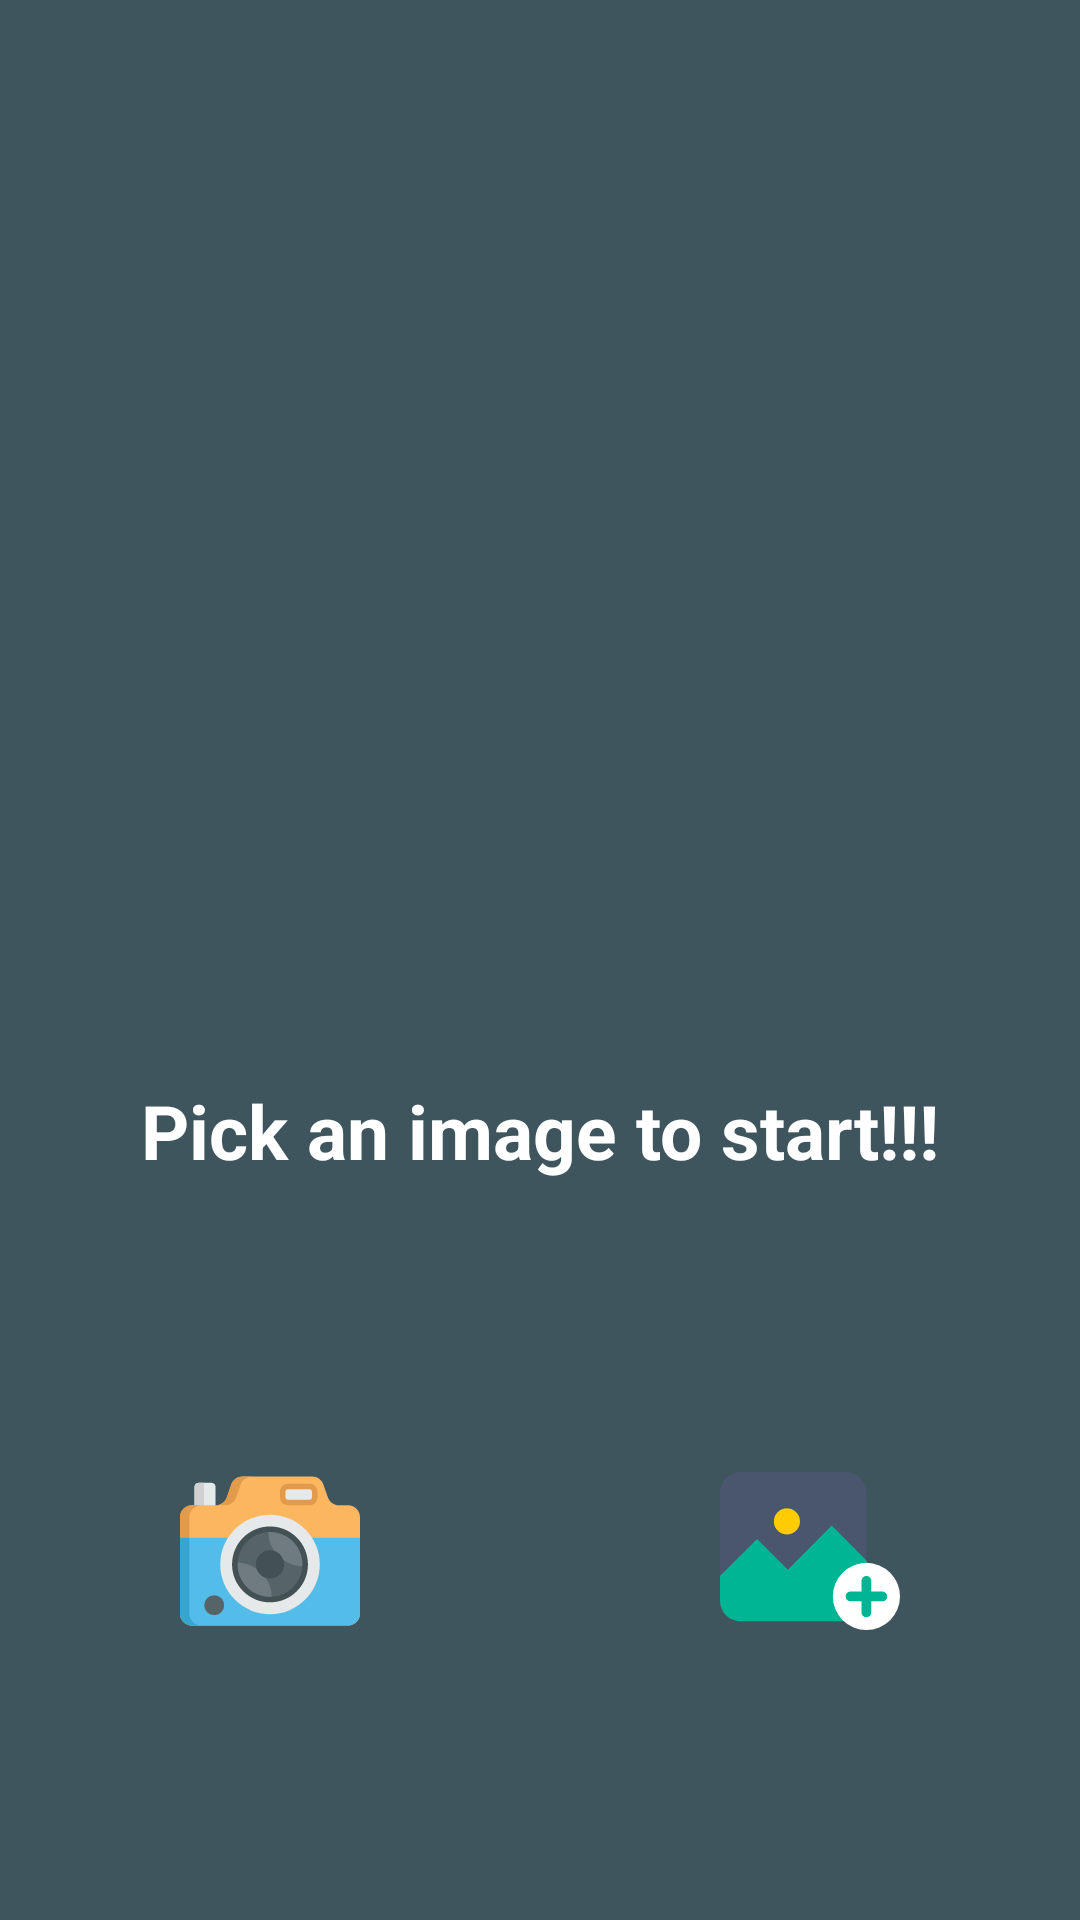

Point at icon controls on the screen. Image size 1080w x 1920h, points as (x,y).
camera: (270,1551)
